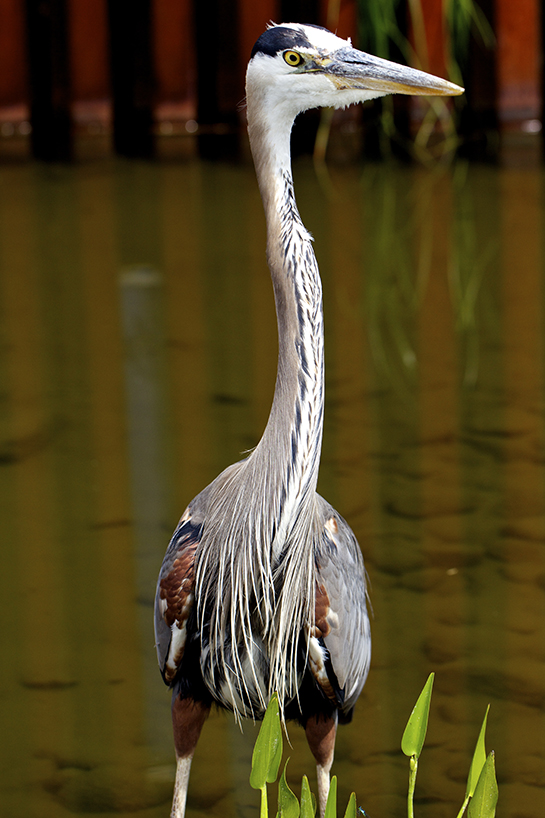heron: (151, 17, 464, 818)
